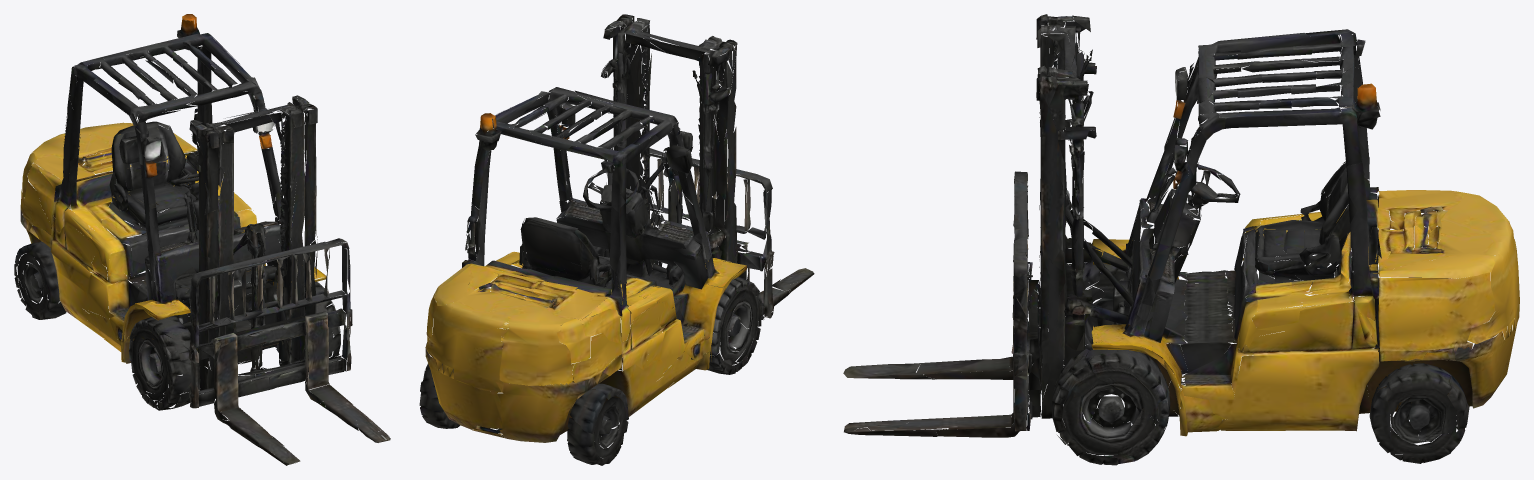
Rendered from h_forklift.glb.
The picture shows the model from 3 angles, left to right: view 1: azimuth 30°, elevation 25°; view 2: azimuth 150°, elevation 25°; view 3: azimuth 270°, elevation 25°; orthographic projection. The views are drawn at different scales.
Visible parts, largest first — view 1: tripo_node_1e8829c5-a292-4b58-8115-0cd32ac6d07f; view 2: tripo_node_1e8829c5-a292-4b58-8115-0cd32ac6d07f; view 3: tripo_node_1e8829c5-a292-4b58-8115-0cd32ac6d07f.
Boxes of the visible parts, left/top/right/bottom form: tripo_node_1e8829c5-a292-4b58-8115-0cd32ac6d07f: left=14, top=14, right=390, bottom=465; tripo_node_1e8829c5-a292-4b58-8115-0cd32ac6d07f: left=419, top=14, right=814, bottom=465; tripo_node_1e8829c5-a292-4b58-8115-0cd32ac6d07f: left=843, top=14, right=1519, bottom=465.
Bounding box in the file's own units: 0.3665 × 0.5906 × 0.9801.
Materials: 1 (1 with a texture image).
